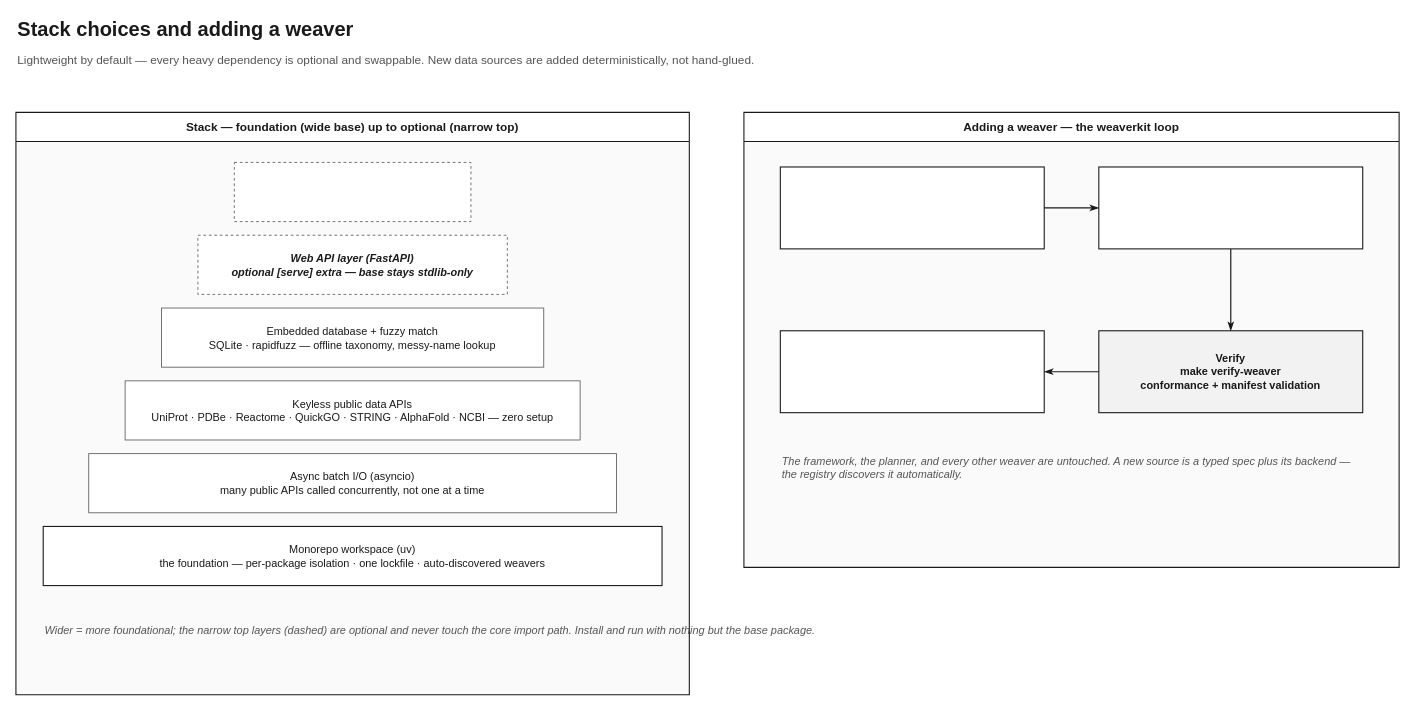
This 1416x711 diagram has some shape labels left out. The centre of each missing label's shape, as x and y in pixels:
"Distributed task queue (arq · Redis) optional — distributed execution" belongs at (352,192).
"Implement backend logic only (the contract is generated)" belongs at (911,371).
"Scaffold make new-weaver generated package + manifest" belongs at (1230,207).
"Spec weaver.spec.toml typed keys + capabilities" belongs at (911,207).
